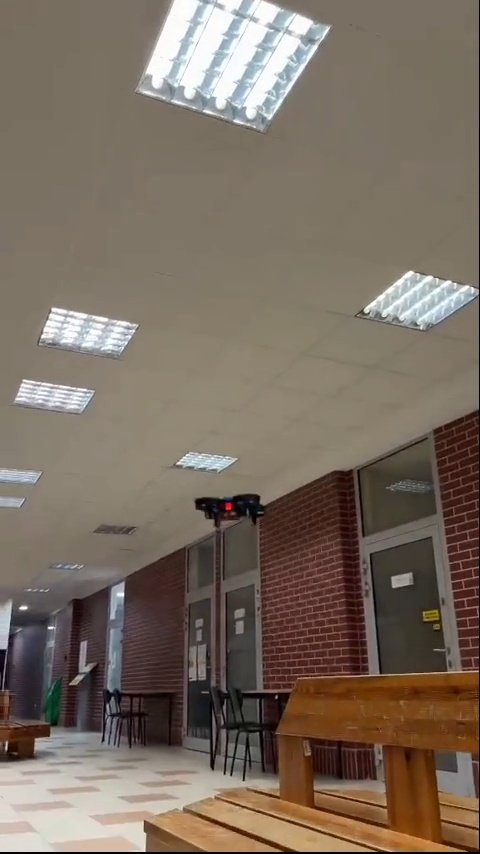drone: (192, 488, 268, 524)
